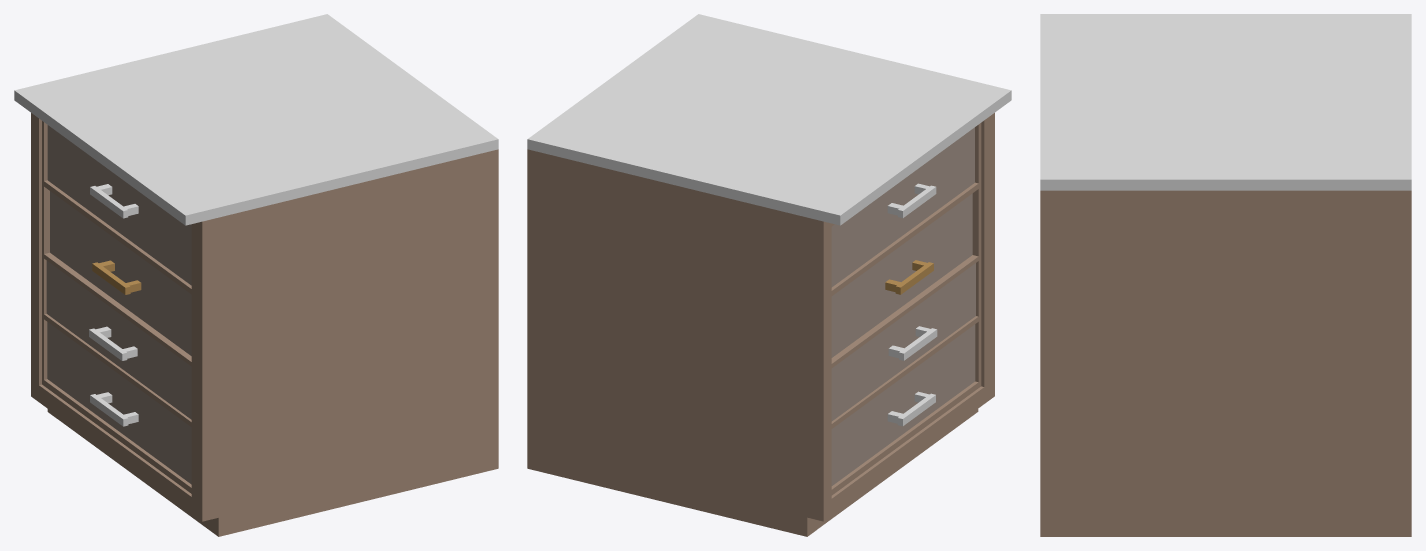
File: comptoir_millieu_03.fbx
The picture shows the model from 3 angles, left to right: view 1: azimuth 30°, elevation 25°; view 2: azimuth 150°, elevation 25°; view 3: azimuth 270°, elevation 25°; orthographic projection. The views are drawn at different scales.
Parts seen in each view (by area): view 1: pasted__pasted__comptoir_millieu_pasted__comptoir_pasted__co; view 2: pasted__pasted__comptoir_millieu_pasted__comptoir_pasted__co; view 3: pasted__pasted__comptoir_millieu_pasted__comptoir_pasted__co.
Part boxes in pixels (x1,y1,x2,y2): pasted__pasted__comptoir_millieu_pasted__comptoir_pasted__co: (14,14,498,536); pasted__pasted__comptoir_millieu_pasted__comptoir_pasted__co: (527,14,1011,536); pasted__pasted__comptoir_millieu_pasted__comptoir_pasted__co: (1040,14,1411,536).
Bounding box in the file's own units: 4.51 × 4.54 × 4.27.
